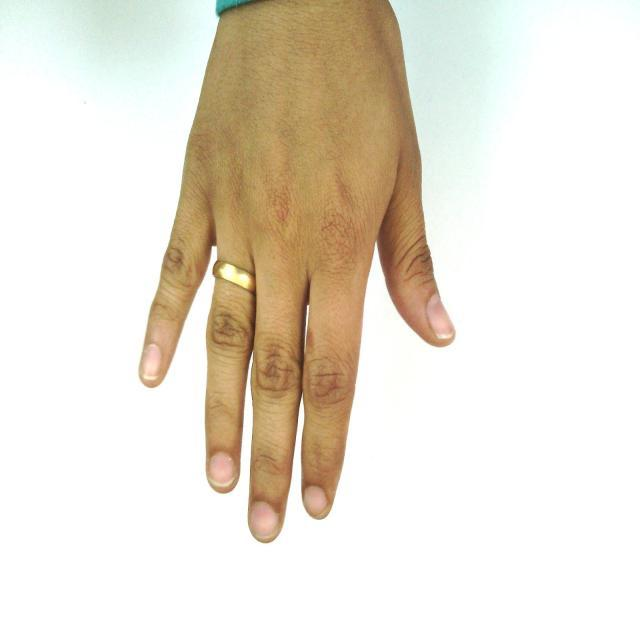Fingernail: (426, 293, 456, 339), (251, 503, 277, 538), (209, 452, 235, 487), (142, 345, 162, 380), (304, 487, 327, 517)
